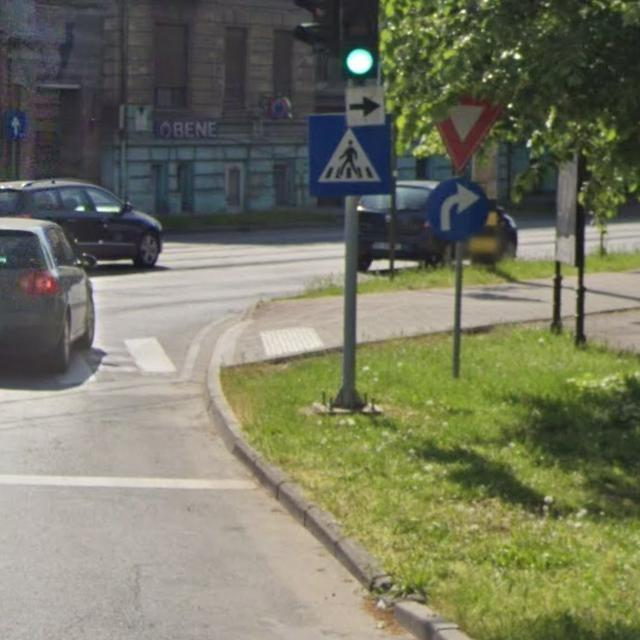info_crosswalk: (308, 115, 394, 198)
prio_give_way: (434, 94, 504, 175)
